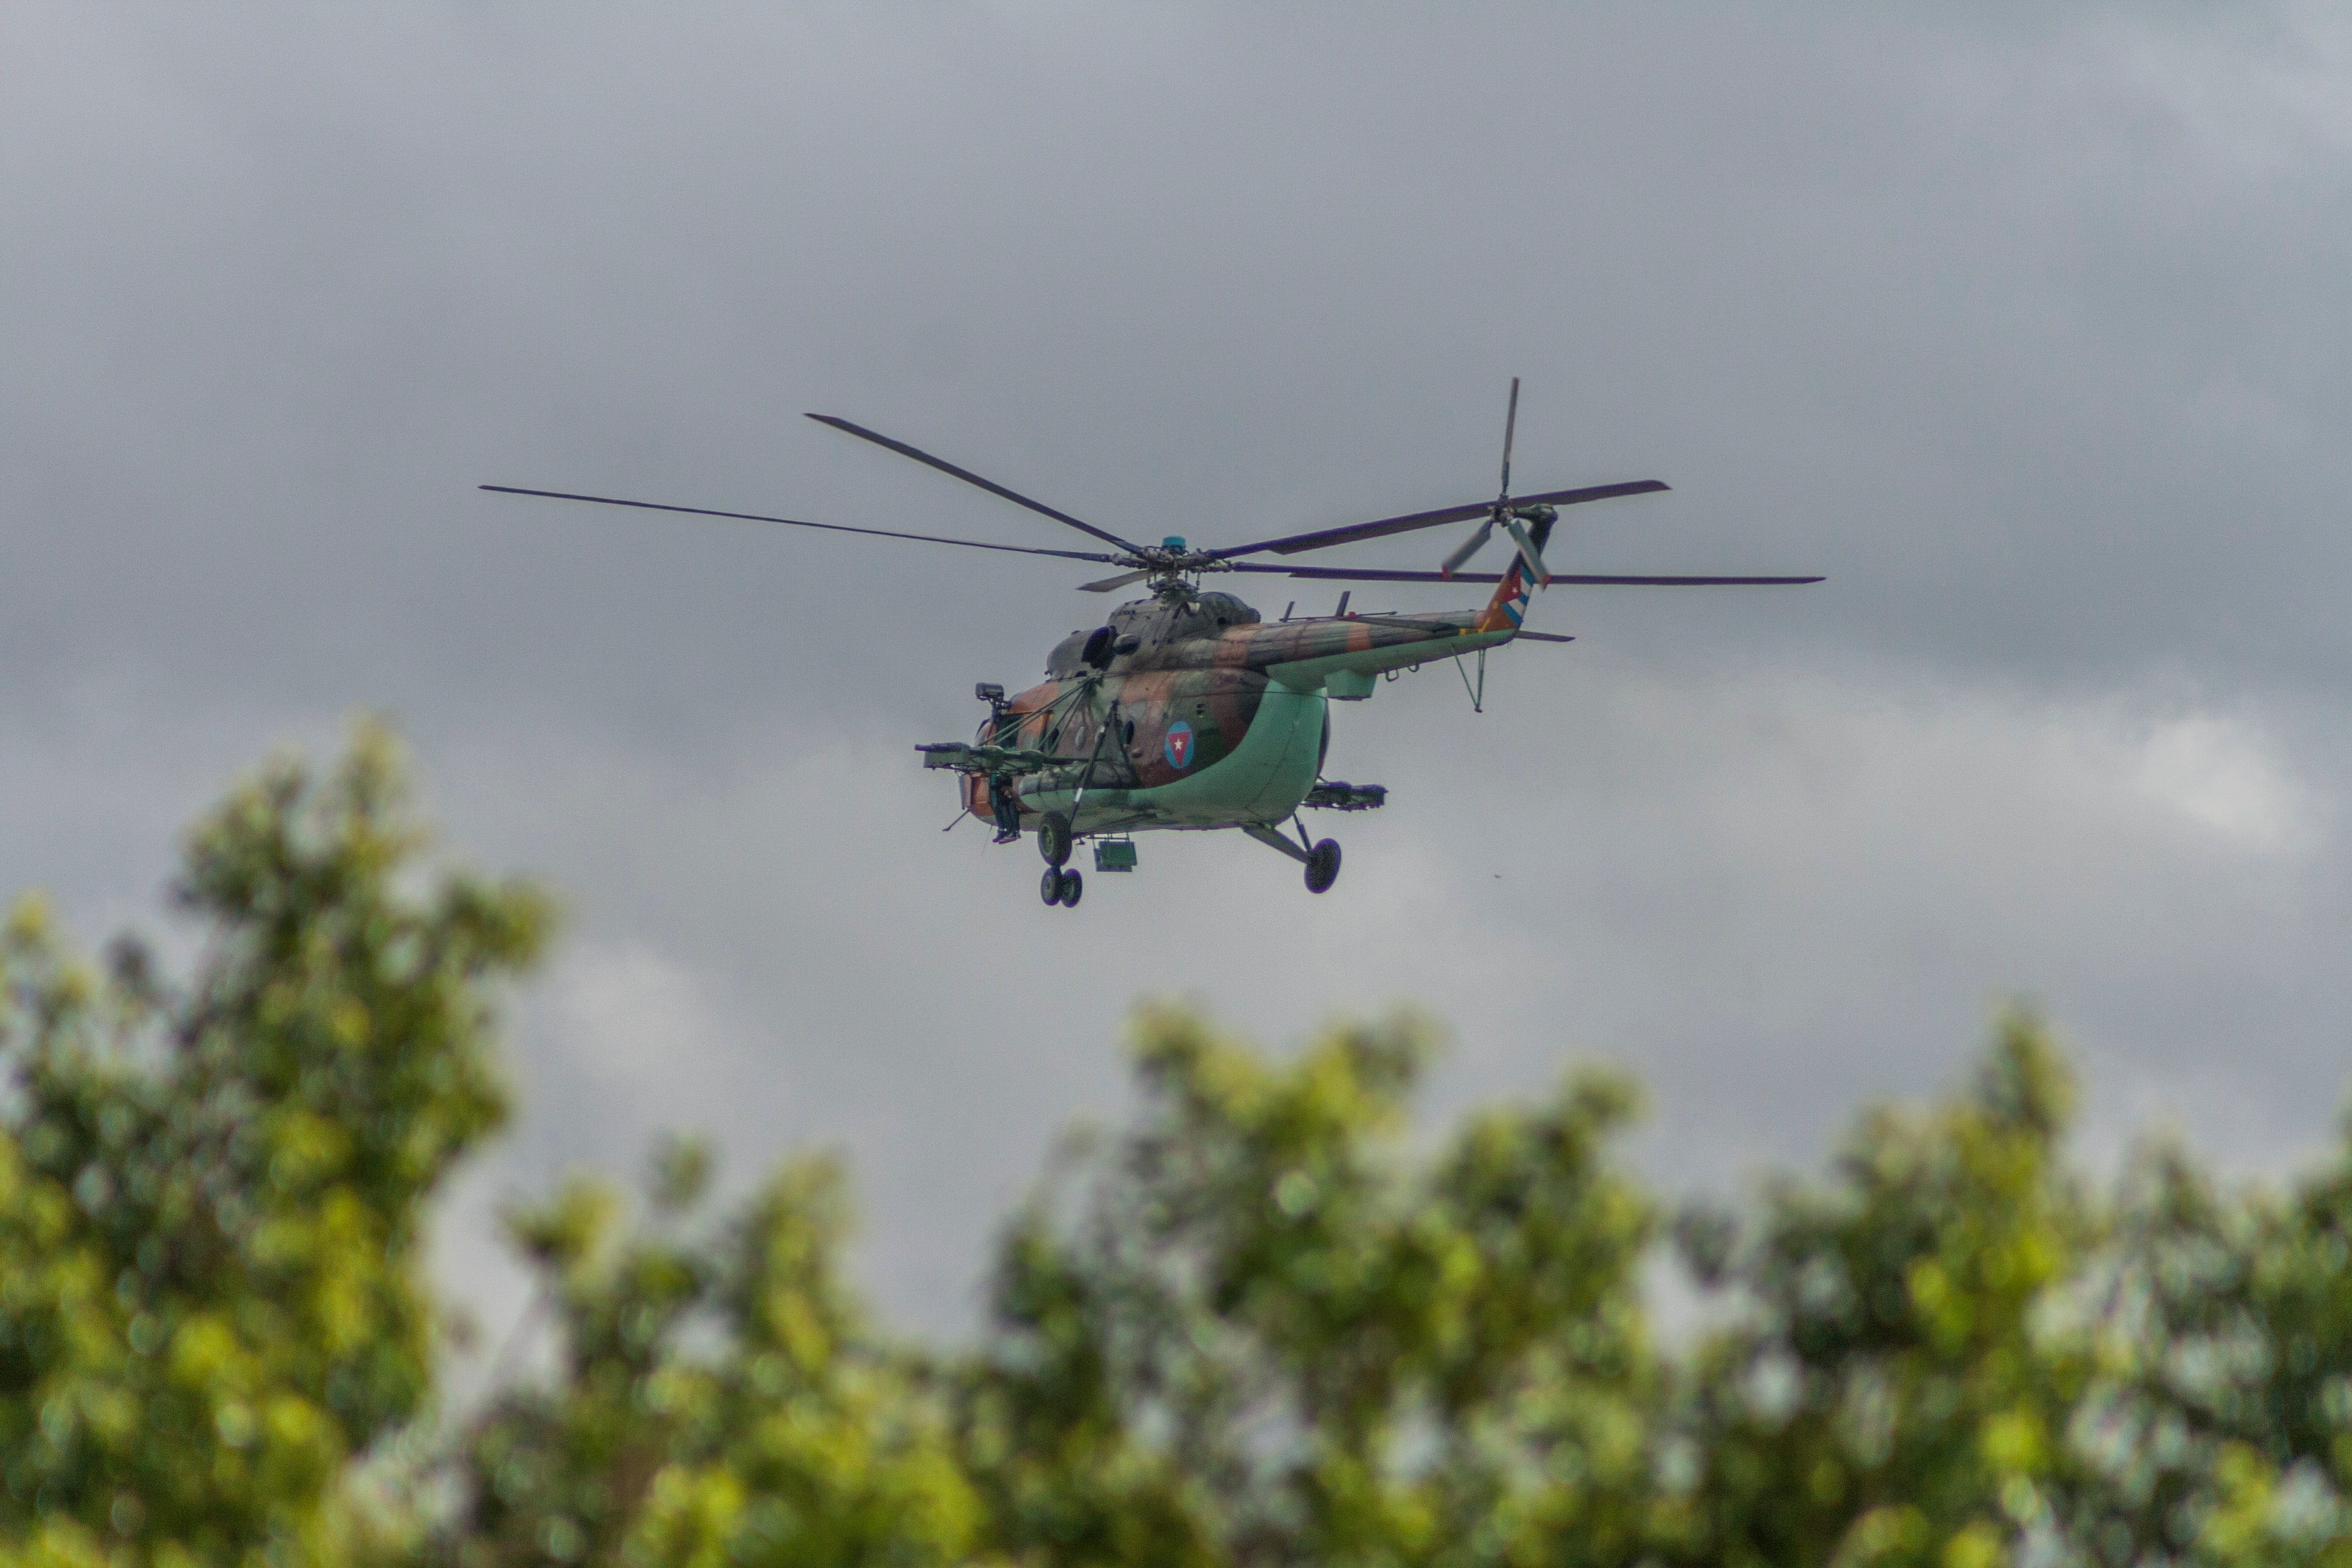helicopter: (406, 357, 1955, 905)
